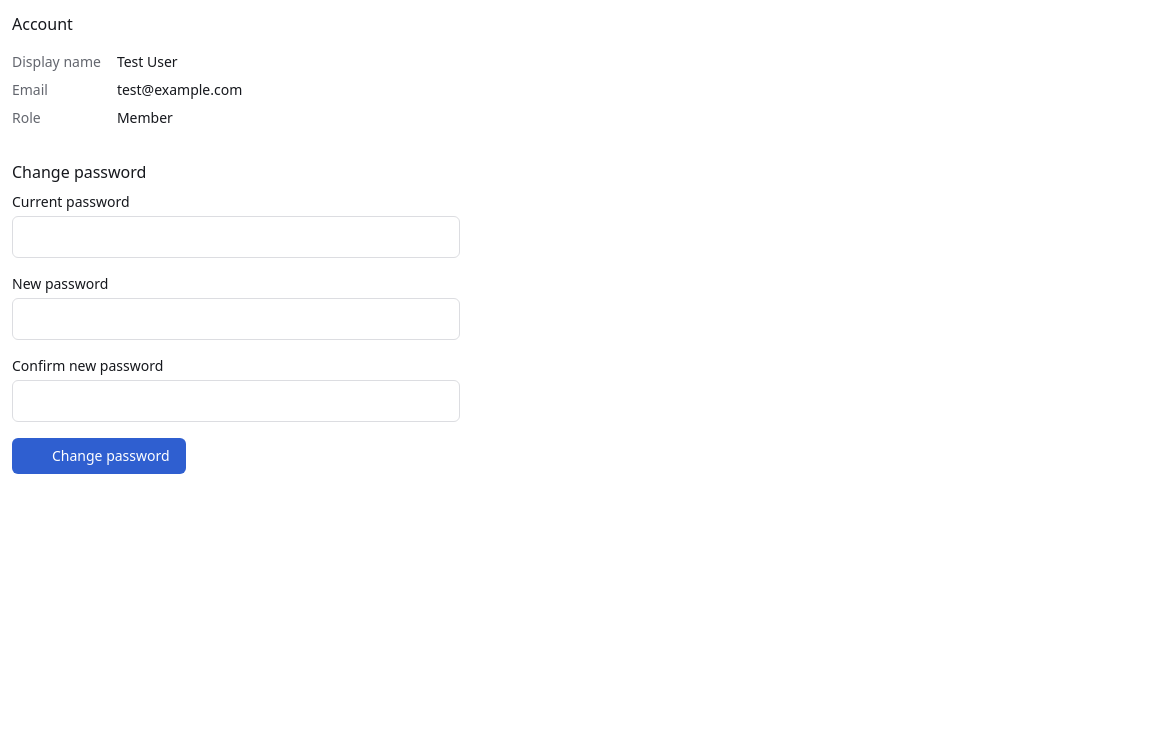
Scenario: changing the password successfully resets the form and shows a toast
Expected: the text "Test User" is shown, [117,52,178,71]
In the password field labelled "Current password": (236, 237) [12,216,460,258], type "old-password-123"
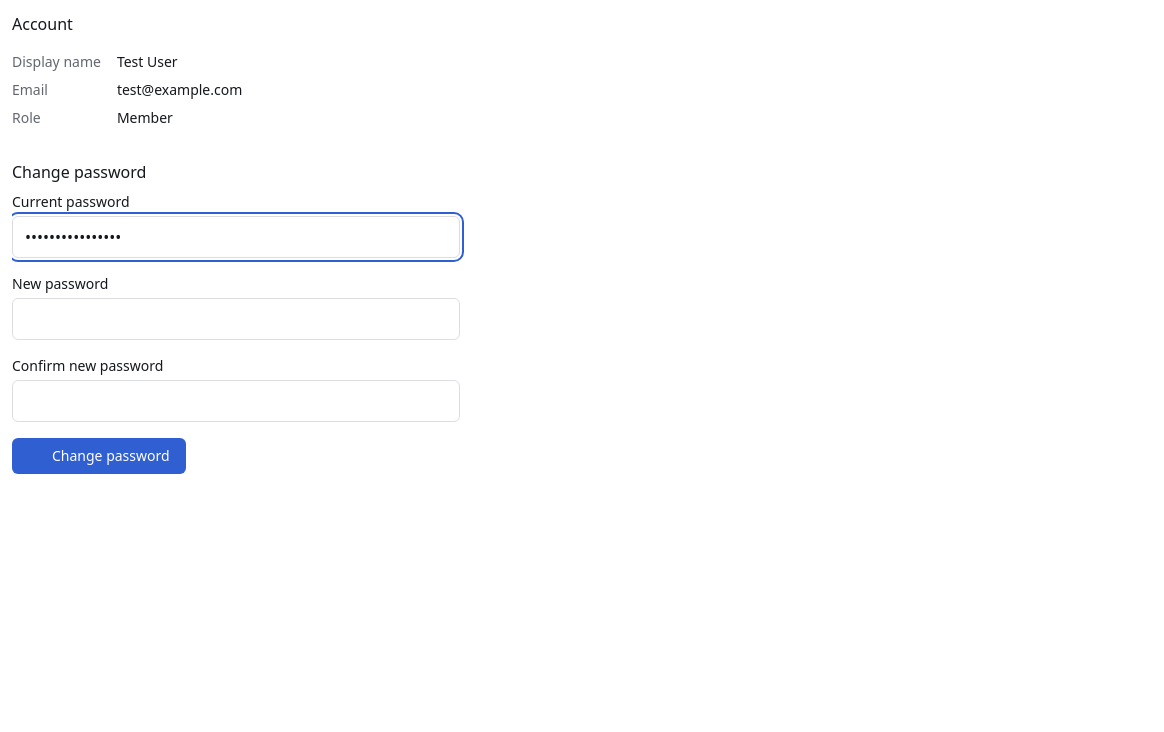
In the password field labelled "New password": (236, 319) [12,298,460,340], type "new-password-456"
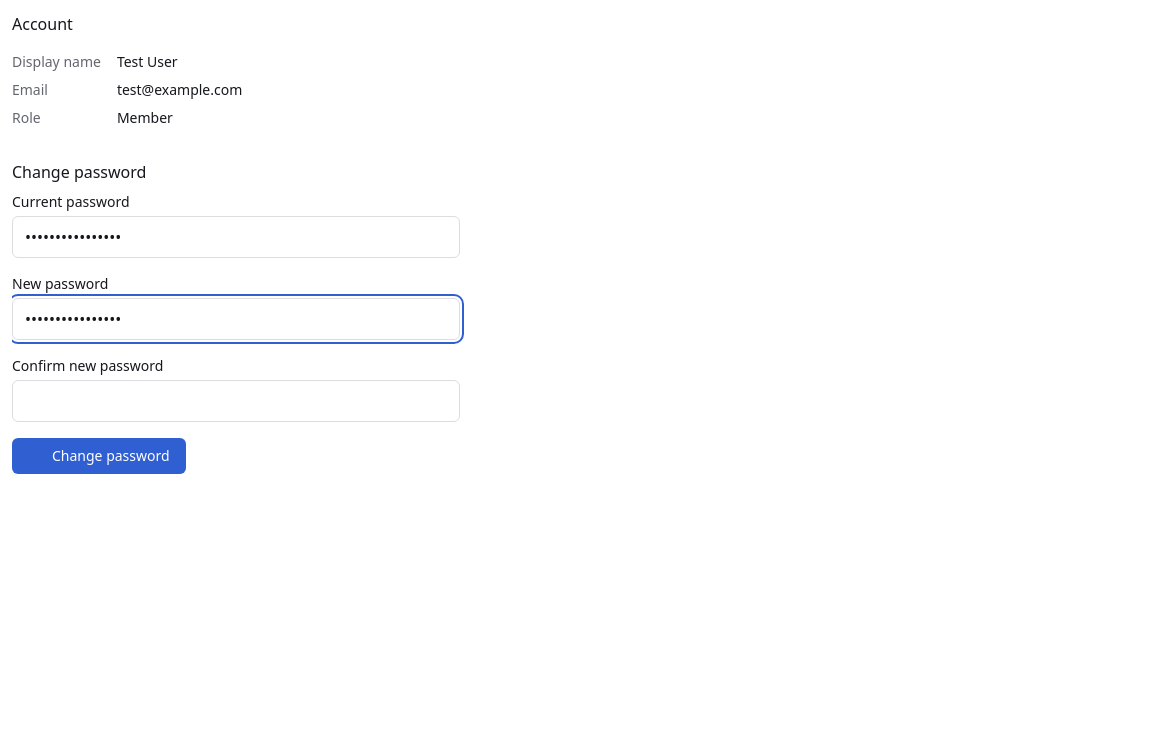
In the password field labelled "Confirm new password": (236, 401) [12,380,460,422], type "new-password-456"
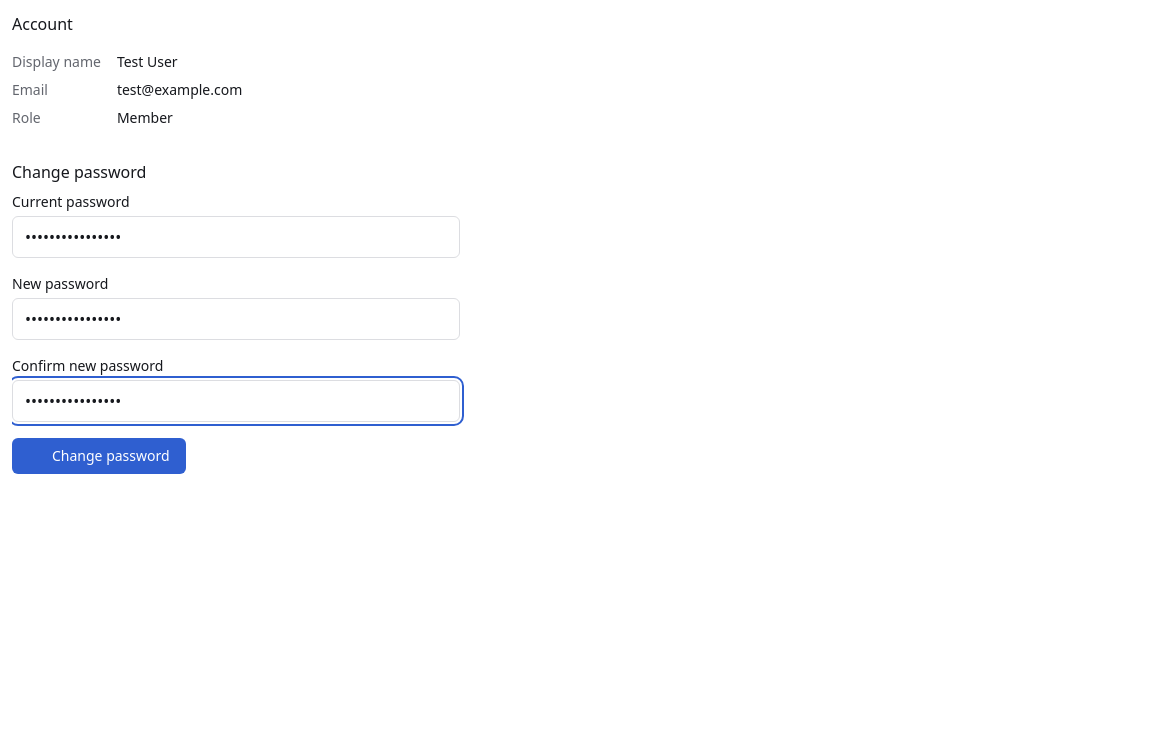
Click the button "Change password": (99, 456) [12,438,186,474]
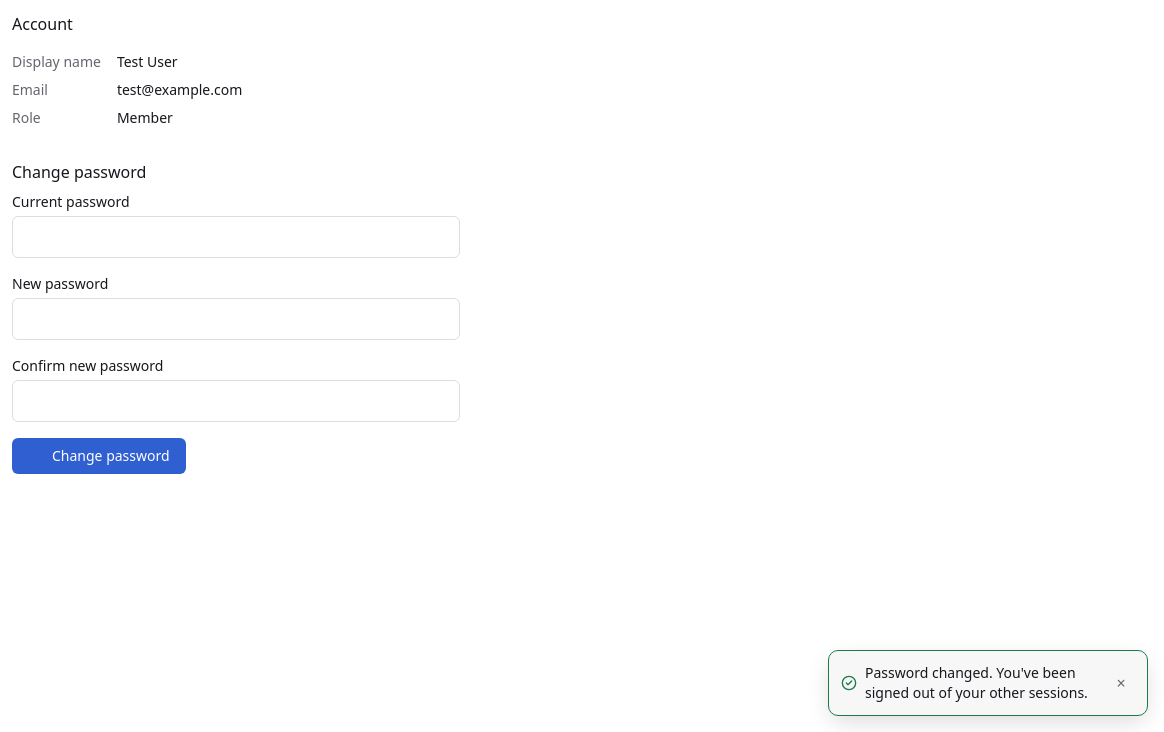
Now the text "signed out of your other sessions" is shown, box [865,663,1088,702]
Now the password field labelled "Current password" is empty, box [12,216,460,258]
